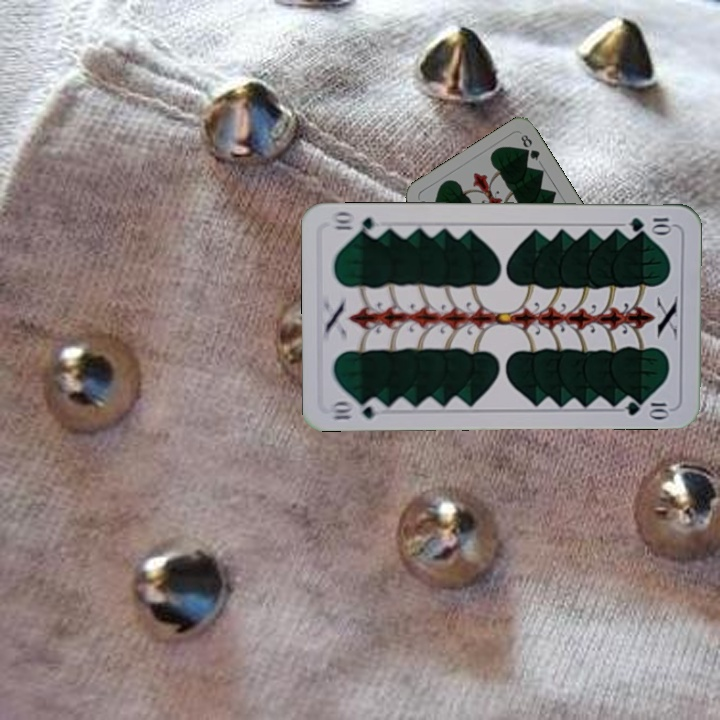G10: (327, 395, 386, 423), (625, 213, 675, 235)
